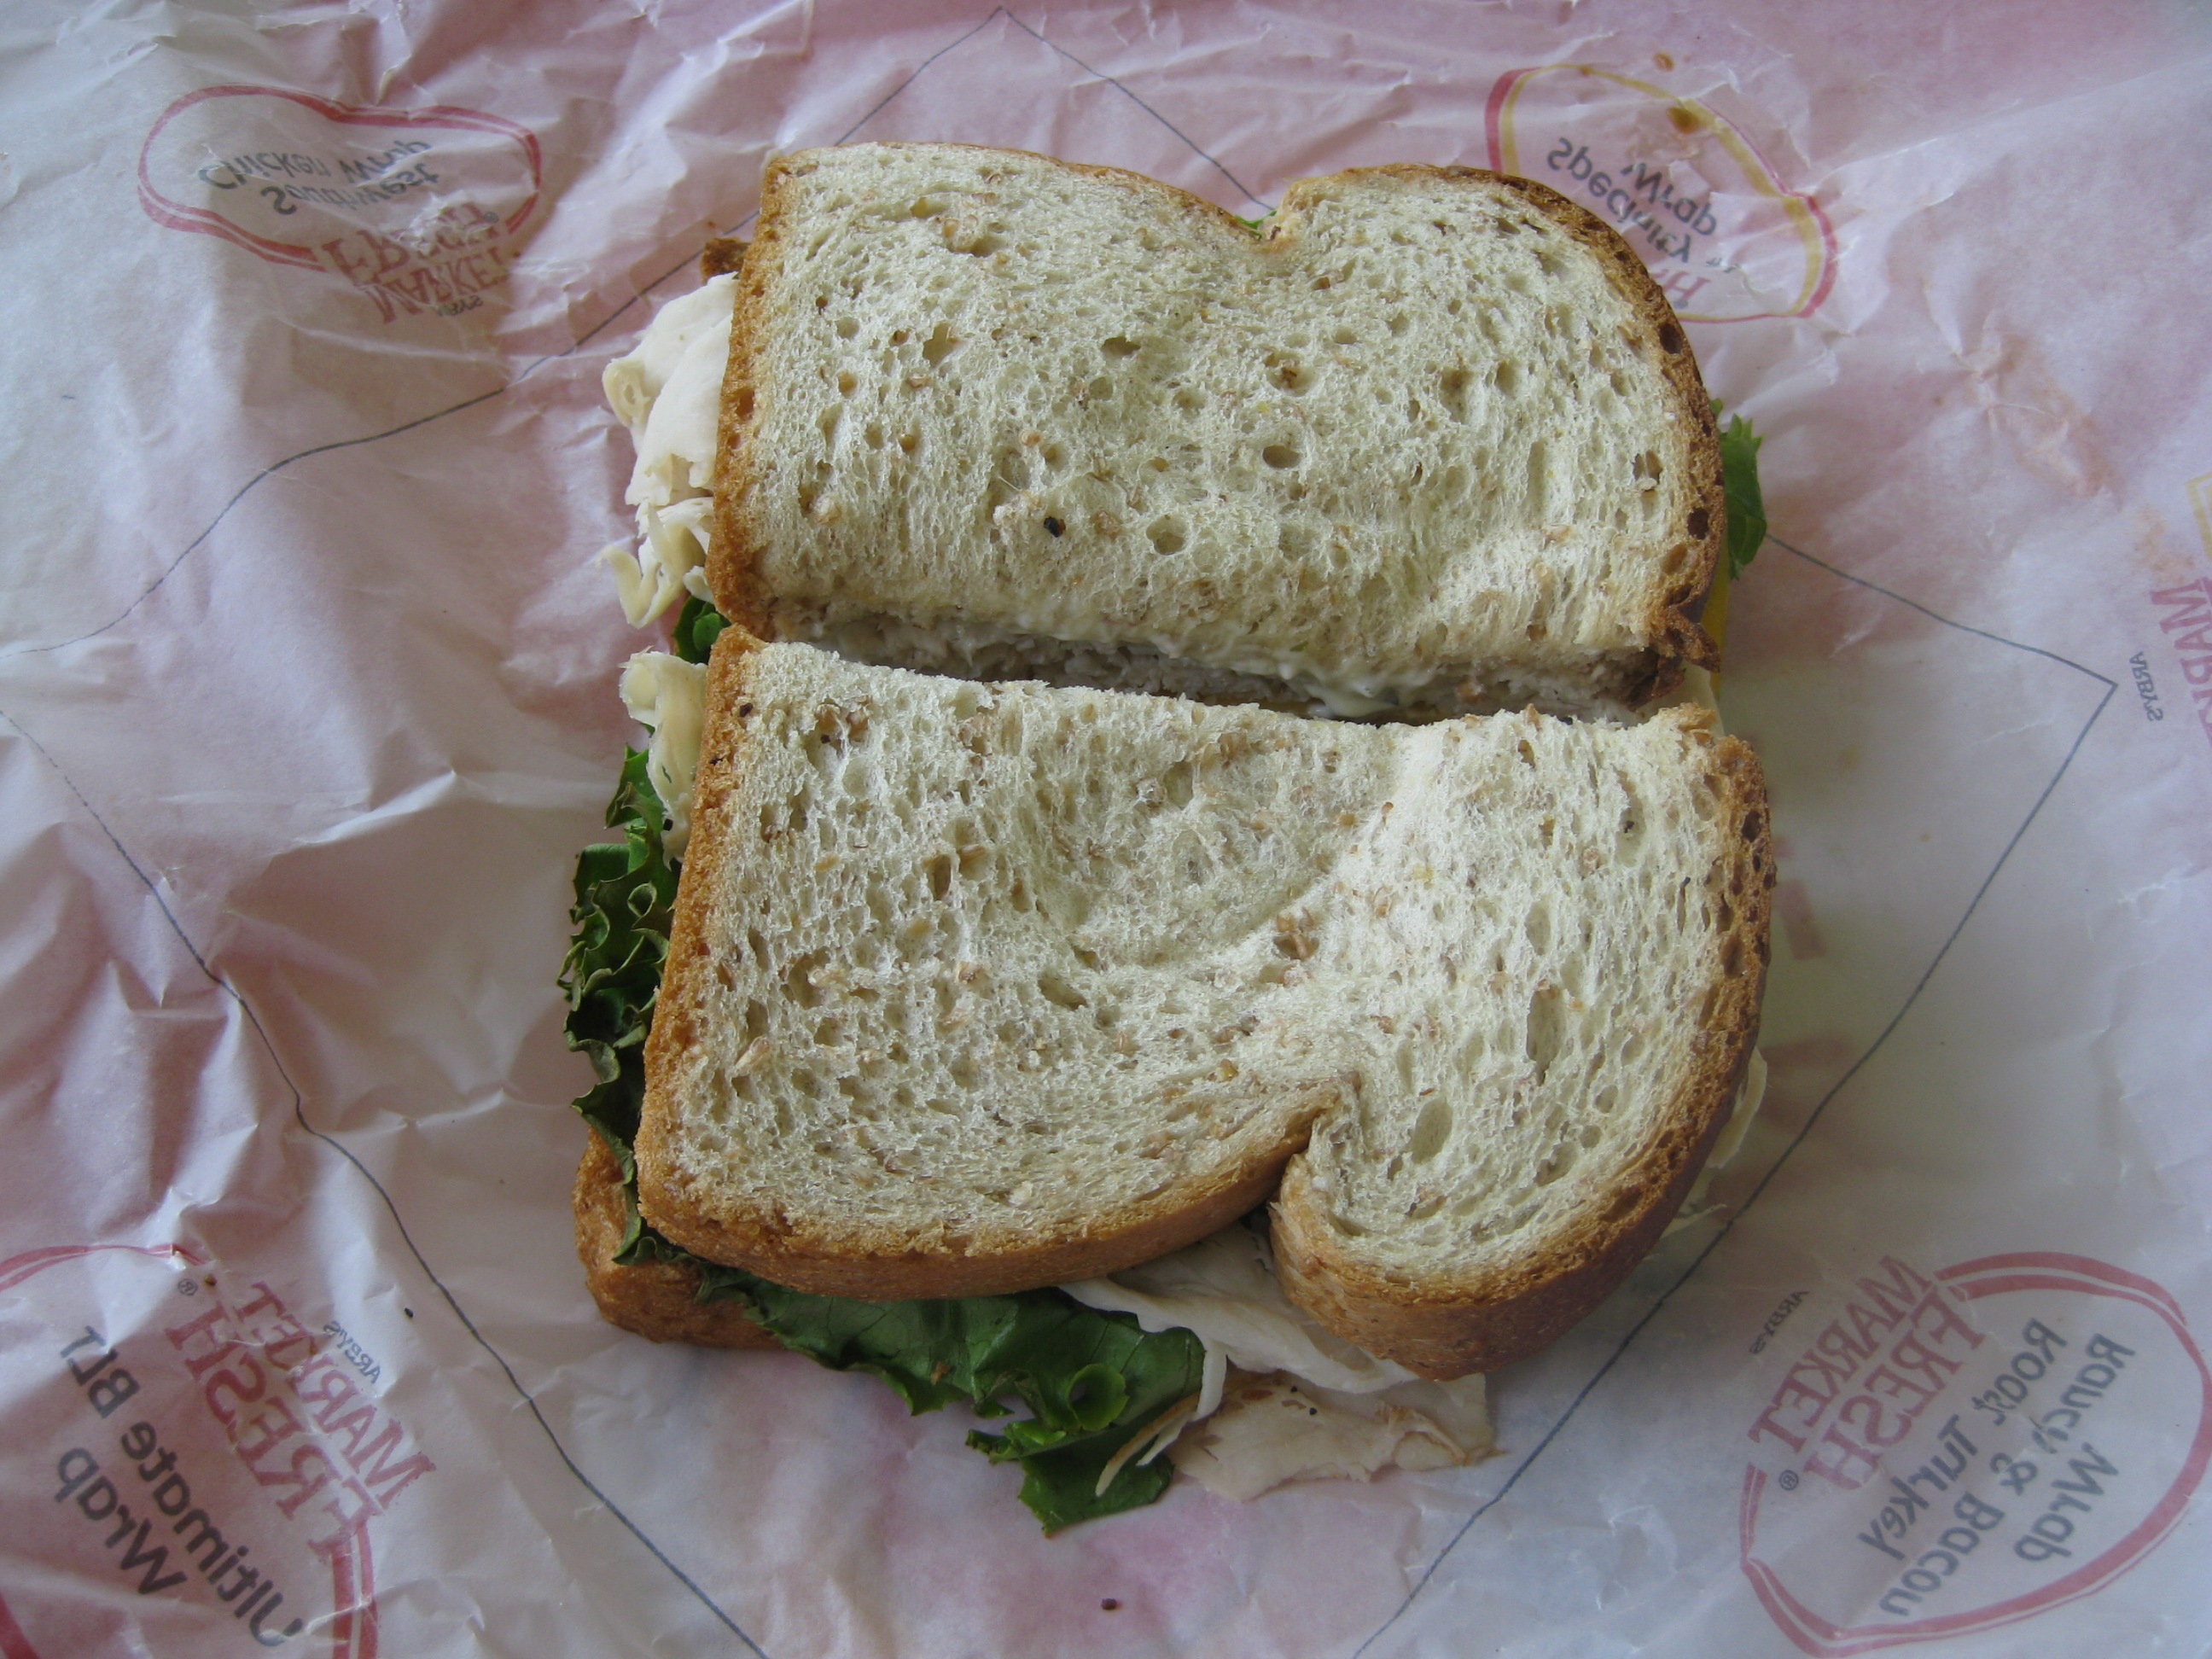sandwich: (552, 102, 1766, 1399)
